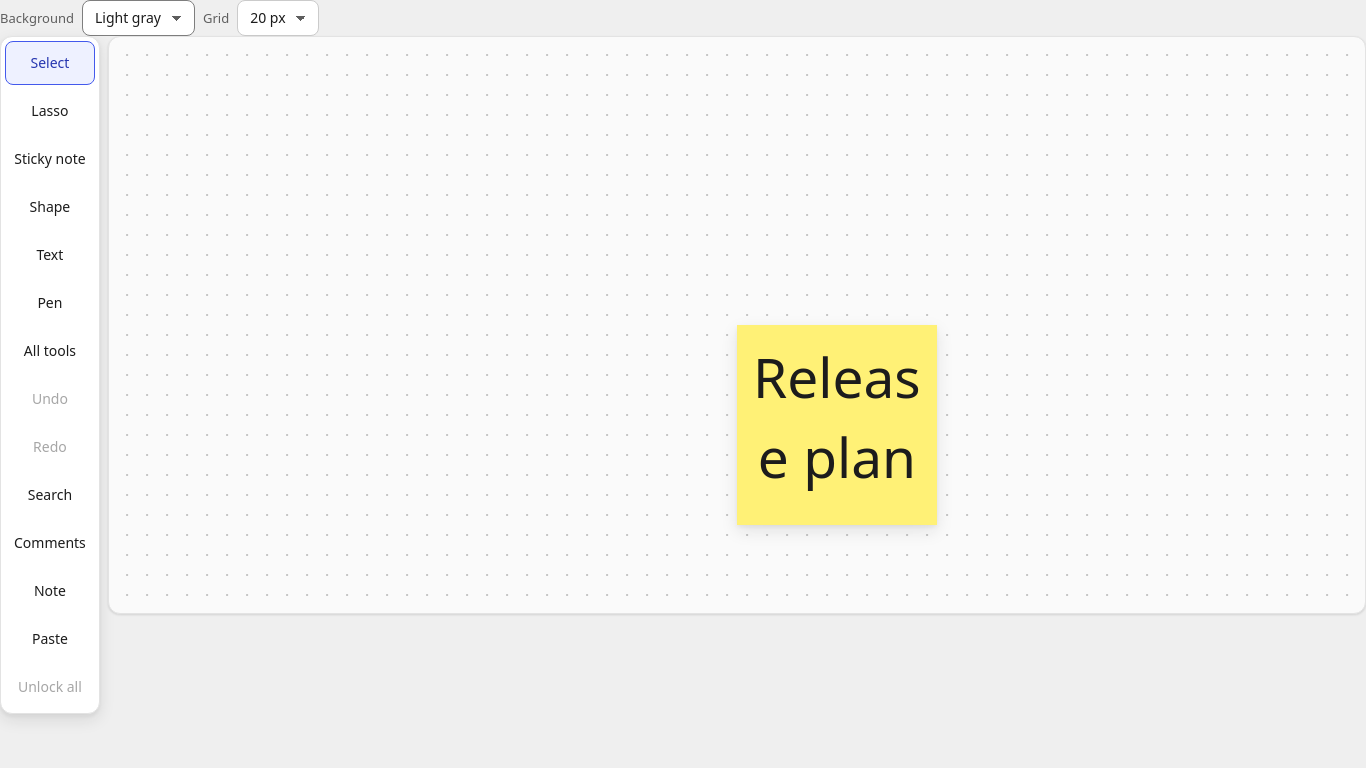
Test case: SHR-07: ссылка на объект › Copy link to object в меню объекта — ссылка на доску с ?object={id}
Press the mouse on the element showing "Release plan" at (837, 425), box [737,325,937,525]
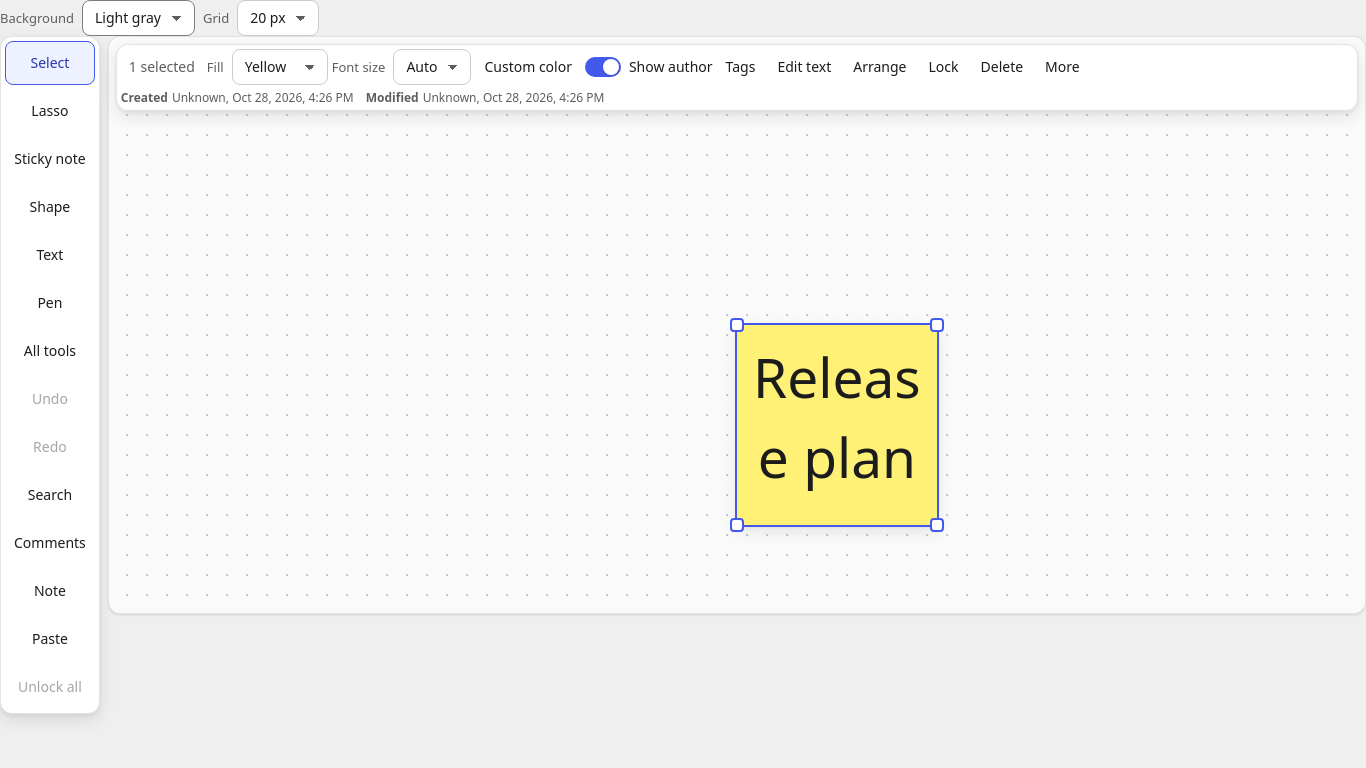
Click the button "More". click: (1062, 67)
box: [1036,49,1089,85]
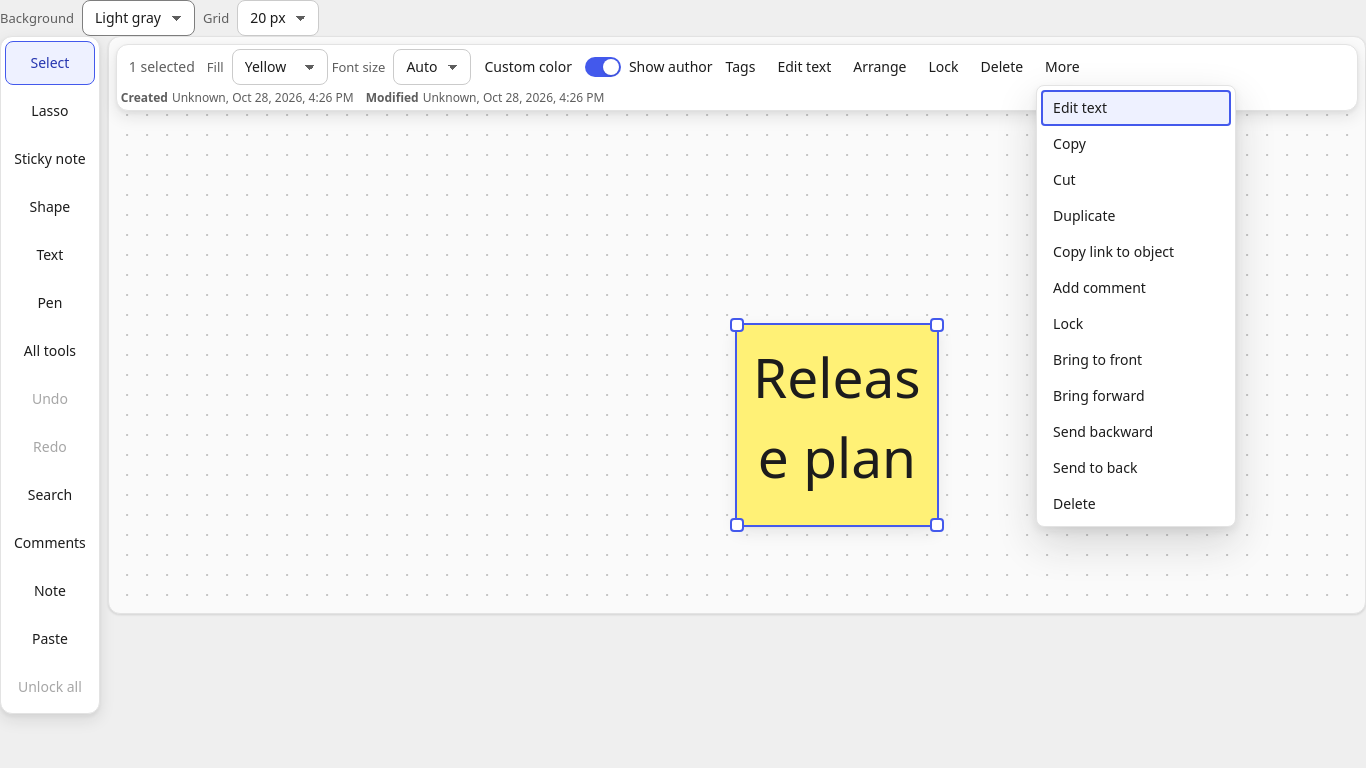
Click the menu item "Copy link to object". click: (1136, 252)
box: [1041,234,1231,270]
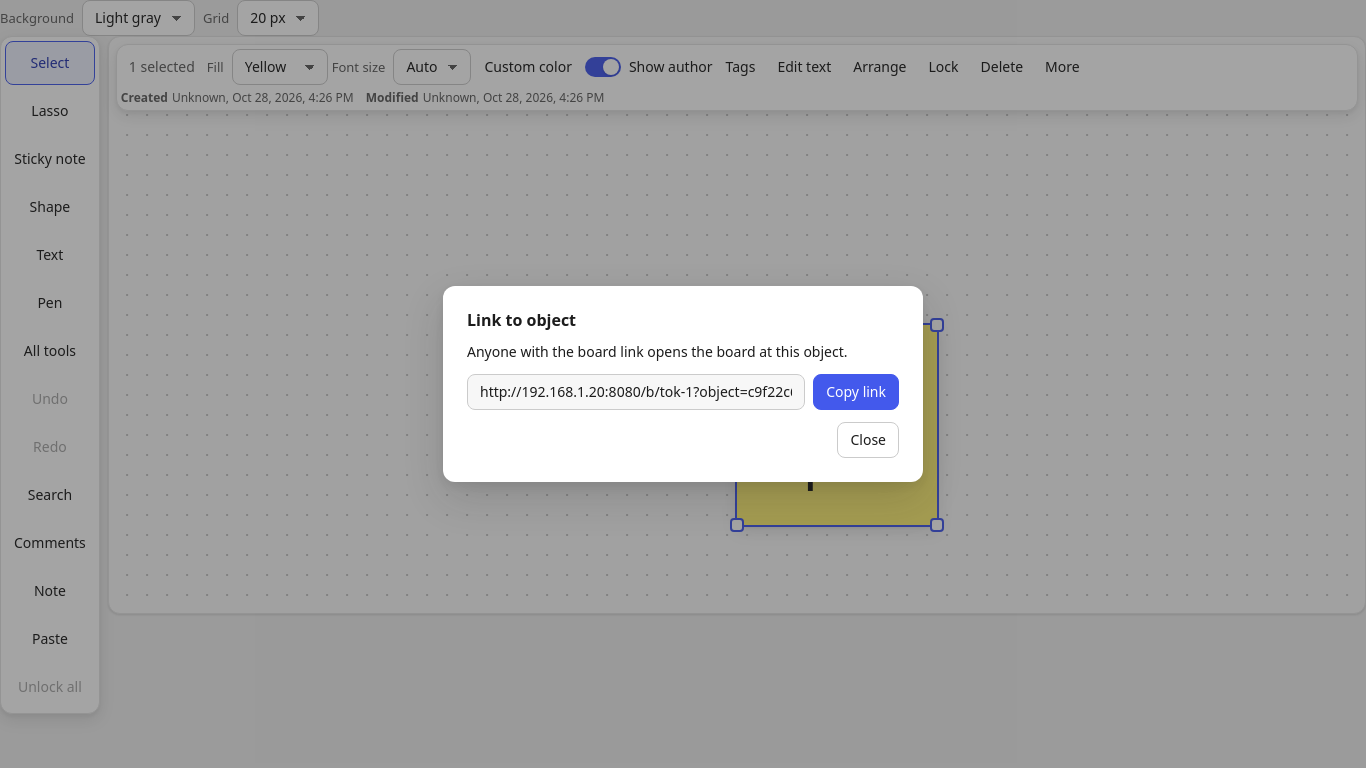
Click the button "Close". click: (868, 440)
box: [838,422,899,458]
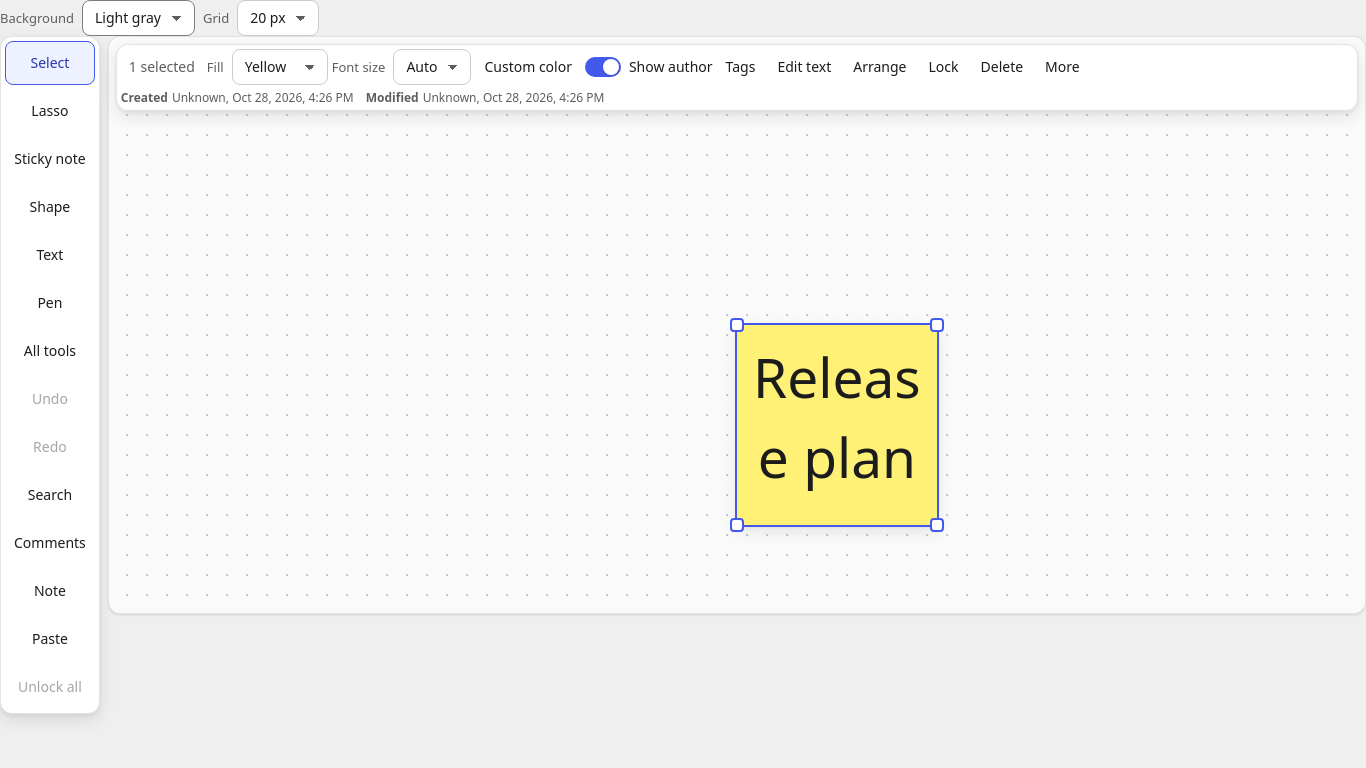
Expected: the dialog is gone
